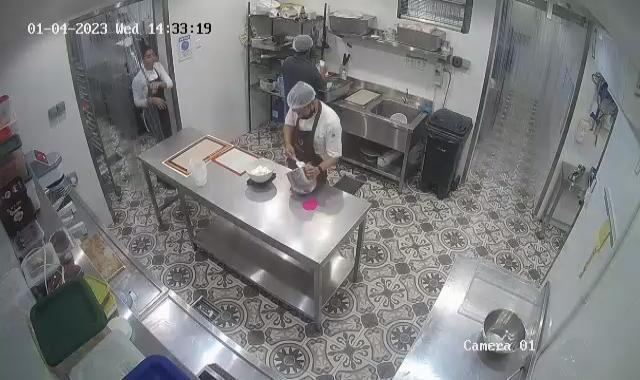hairnet: (288, 80, 317, 115), (294, 32, 314, 57)
no_hairnet: (140, 43, 155, 66)
